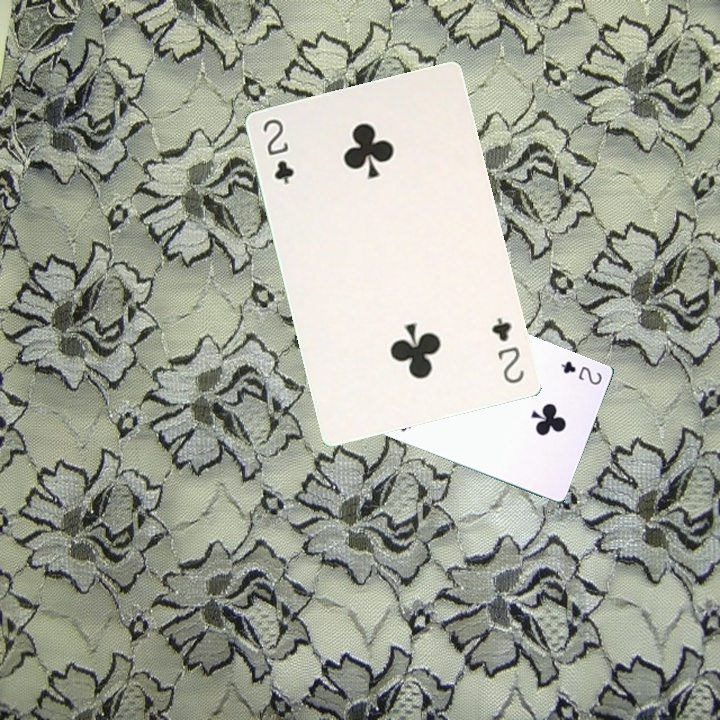2c: (487, 313, 527, 386), (258, 114, 297, 187), (557, 357, 605, 388)
